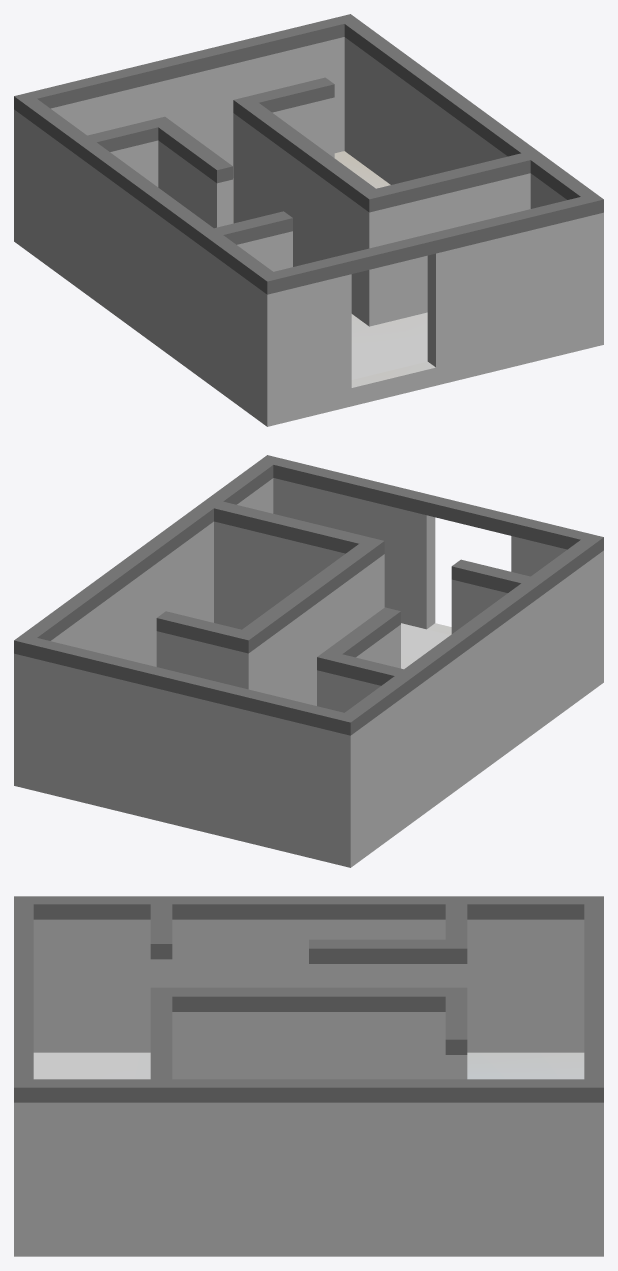
File: UnfinishedHouse0.fbx
The picture shows the model from 3 angles, top to bottom: view 1: azimuth 30°, elevation 25°; view 2: azimuth 150°, elevation 25°; view 3: azimuth 270°, elevation 25°; orthographic projection. The views are drawn at different scales.
Parts seen in each view (by area): view 1: UnfinishedHouse; view 2: UnfinishedHouse; view 3: UnfinishedHouse.
Part boxes in pixels (x1,y1,x2,y2): UnfinishedHouse: [14, 14, 603, 426]; UnfinishedHouse: [14, 455, 603, 867]; UnfinishedHouse: [14, 896, 603, 1256].
Bounding box in the file's own units: 8404 × 3467 × 10953.
